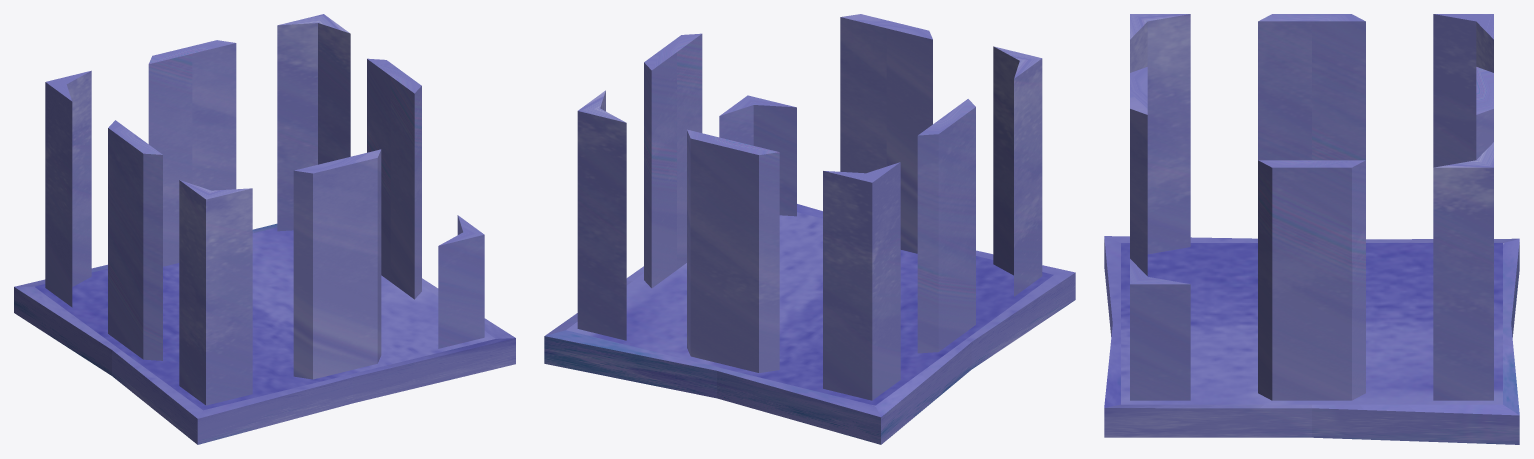
Rendered from Jaula_open.glb.
3 renders of one model, left to right at view 1: azimuth 30°, elevation 25°; view 2: azimuth 150°, elevation 25°; view 3: azimuth 270°, elevation 25°, orthographic. The views are drawn at different scales.
Visible parts, largest first — view 1: L_jaula_open.001; view 2: L_jaula_open.001; view 3: L_jaula_open.001.
Part boxes in pixels (left/top/right/bottom): L_jaula_open.001: left=14, top=14, right=515, bottom=444; L_jaula_open.001: left=544, top=14, right=1075, bottom=444; L_jaula_open.001: left=1104, top=14, right=1519, bottom=444.
Bounding box in the file's own units: 2.38 × 1.68 × 2.38.
Materials: 1 (1 with a texture image).
